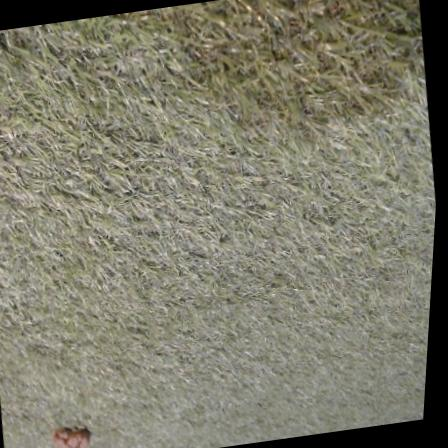dog-poop: (51, 418, 101, 448)
